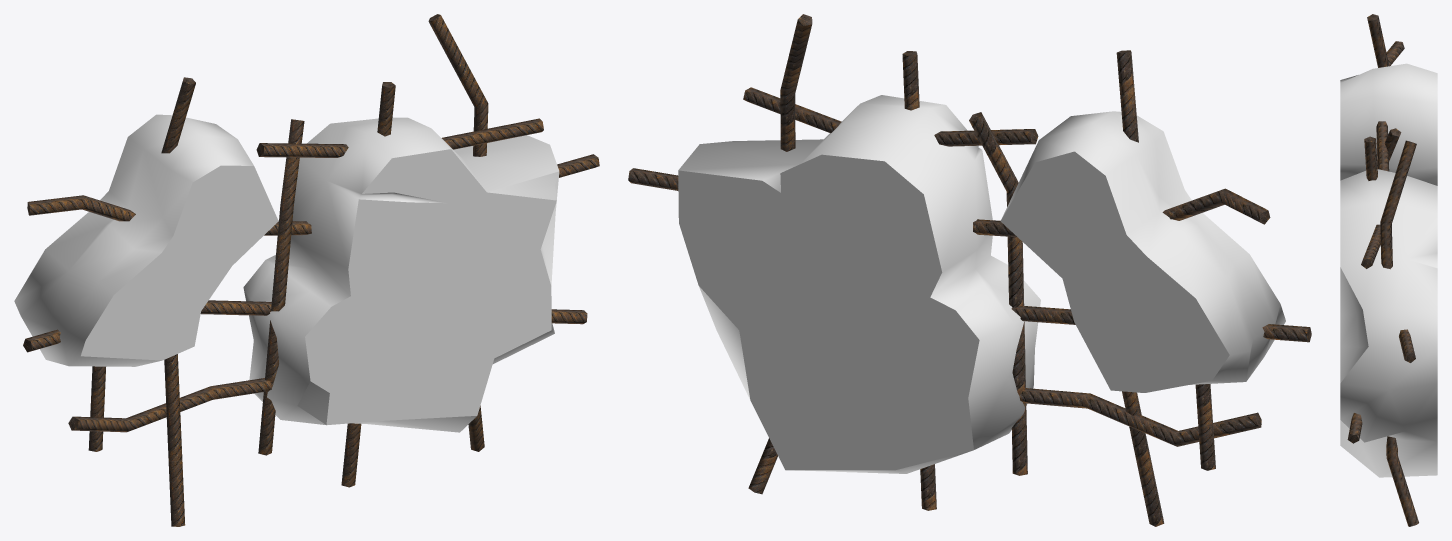
The model's file is Debris2_LOD0.fbx.
3 views of the same model, side by side, from view 1: azimuth 30°, elevation 25°; view 2: azimuth 150°, elevation 25°; view 3: azimuth 270°, elevation 25° (orthographic). The views are drawn at different scales.
Visible parts, largest first — view 1: polySurface1276; view 2: polySurface1276; view 3: polySurface1276.
Part boxes in pixels (x1=…): polySurface1276: x1=14, y1=14, x2=599, y2=526; polySurface1276: x1=628, y1=14, x2=1311, y2=526; polySurface1276: x1=1340, y1=14, x2=1437, y2=526.
Bounding box in the file's own units: 2.1 × 1.56 × 0.3589.
